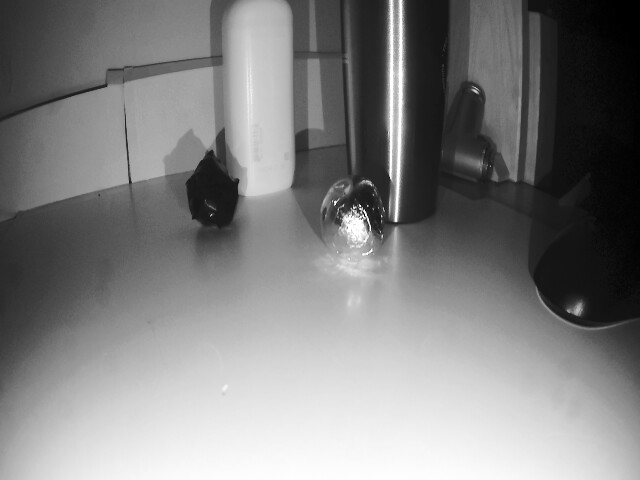black: (181, 153, 243, 228)
silver: (316, 171, 386, 260)
